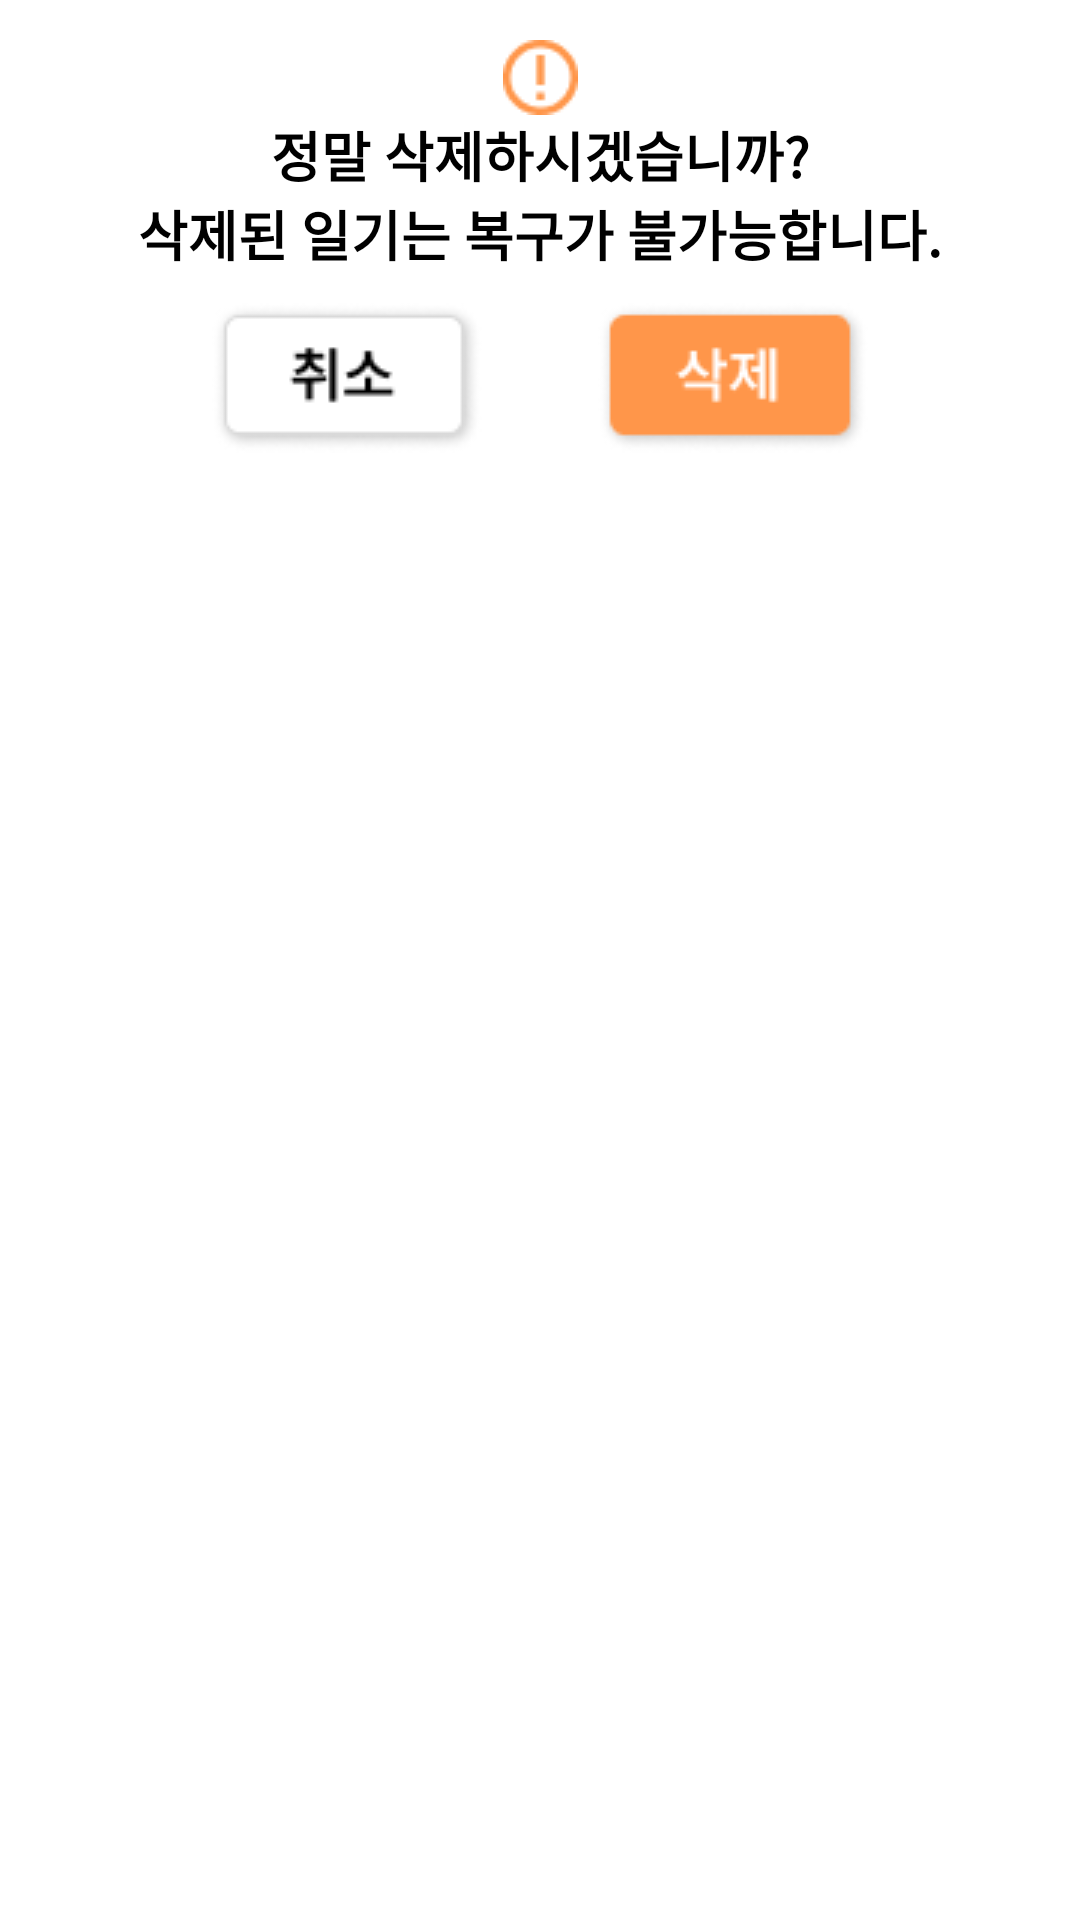

Named icons in this screenshot (1080w x 1920h) and their centers, [x,y]:
alert: [540,77]
